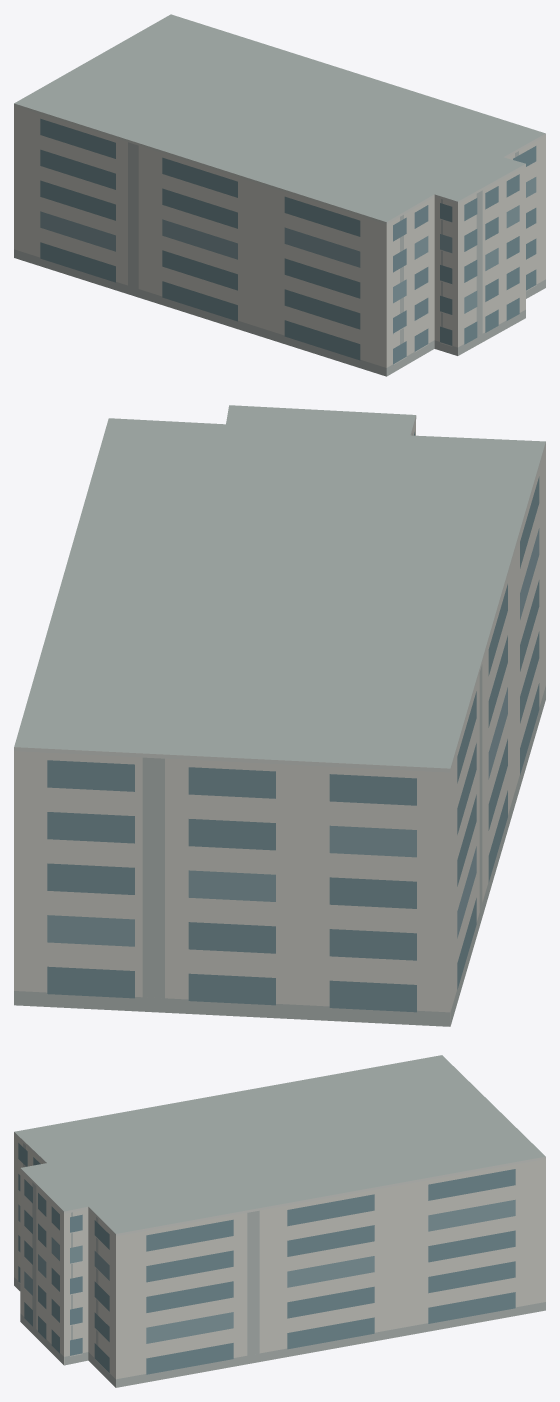
Rendered from survey-upis-32707780.glb.
The picture shows the model from 3 angles, top to bottom: view 1: azimuth 30°, elevation 25°; view 2: azimuth 150°, elevation 25°; view 3: azimuth 270°, elevation 25°; orthographic projection. The views are drawn at different scales.
Visible parts, largest first — view 1: survey-upis-32707780.tmp; view 2: survey-upis-32707780.tmp; view 3: survey-upis-32707780.tmp.
Part boxes in pixels (x1,y1,x2,y2): survey-upis-32707780.tmp: [14, 14, 545, 376]; survey-upis-32707780.tmp: [14, 405, 545, 1026]; survey-upis-32707780.tmp: [14, 1055, 545, 1387].
Bounding box in the file's own units: 38.05 × 15.25 × 47.78.
